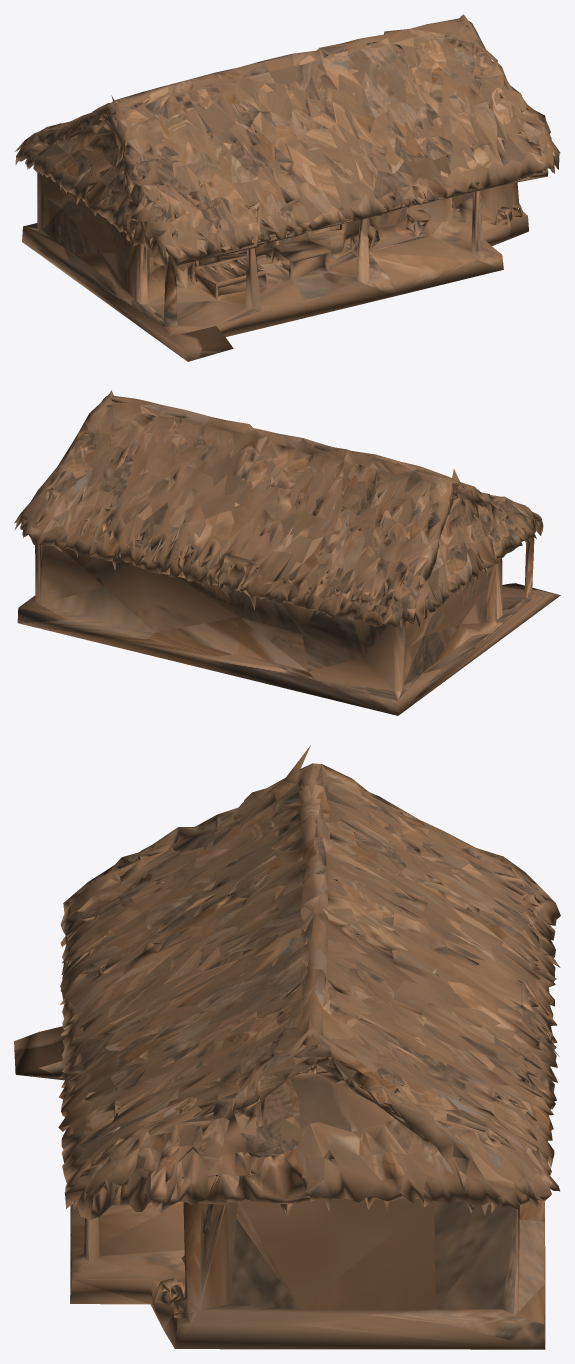
File: SM_NhaTranh_BlenderOptimized.fbx
The picture shows the model from 3 angles, top to bottom: view 1: azimuth 30°, elevation 25°; view 2: azimuth 150°, elevation 25°; view 3: azimuth 270°, elevation 25°; orthographic projection. The views are drawn at different scales.
Parts seen in each view (by area): view 1: Mesh_0; view 2: Mesh_0; view 3: Mesh_0.
Part boxes in pixels (x1,y1,x2,y2): Mesh_0: (14,14,560,361); Mesh_0: (14,390,560,715); Mesh_0: (14,745,560,1349).
Size of the model in its own units: 1.89 by 0.8418 by 1.33.
